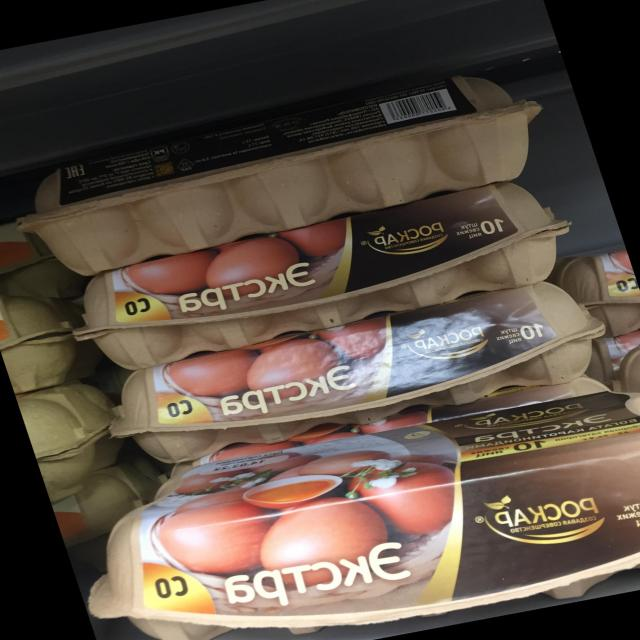organic waste: (47, 375, 640, 640), (50, 172, 594, 376), (82, 277, 629, 478), (14, 374, 140, 497), (0, 280, 91, 397), (548, 244, 639, 346)
